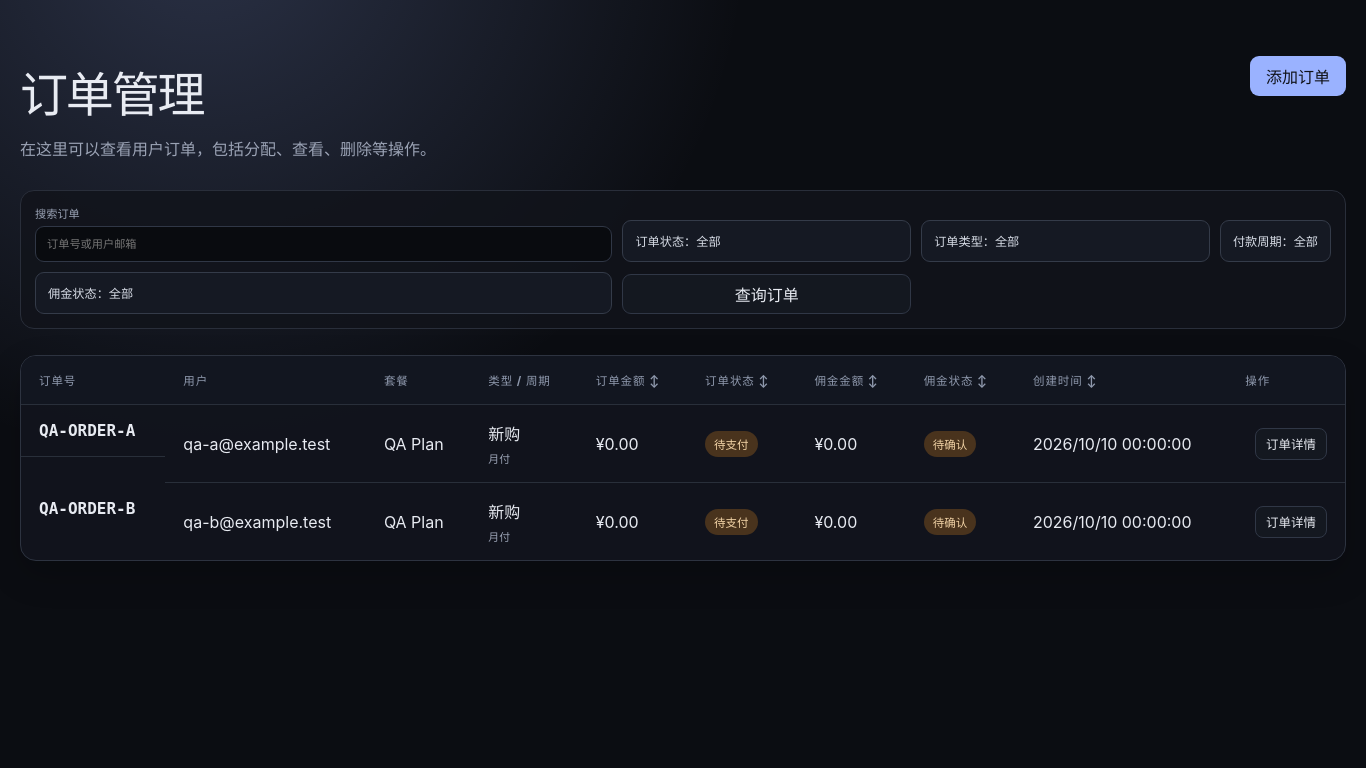
Scenario: administrator order detail request lifetime › keeps B selected when the older A request settles by resolve
Click the button "订单详情" in the row of "QA-ORDER-A" at point(1291, 444), box [1255,428,1327,460]
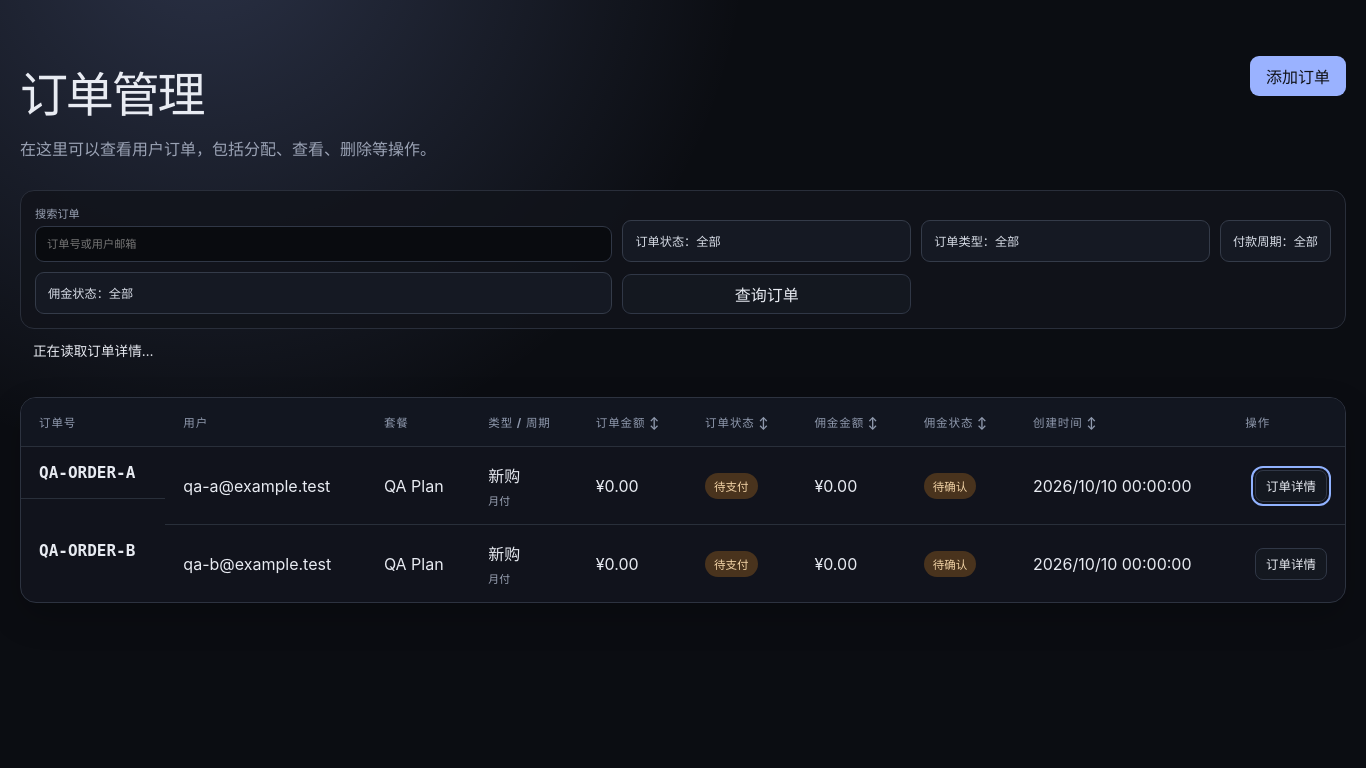
Click the button "订单详情" in the row of "QA-ORDER-B" at point(1291, 564), box [1255,548,1327,580]
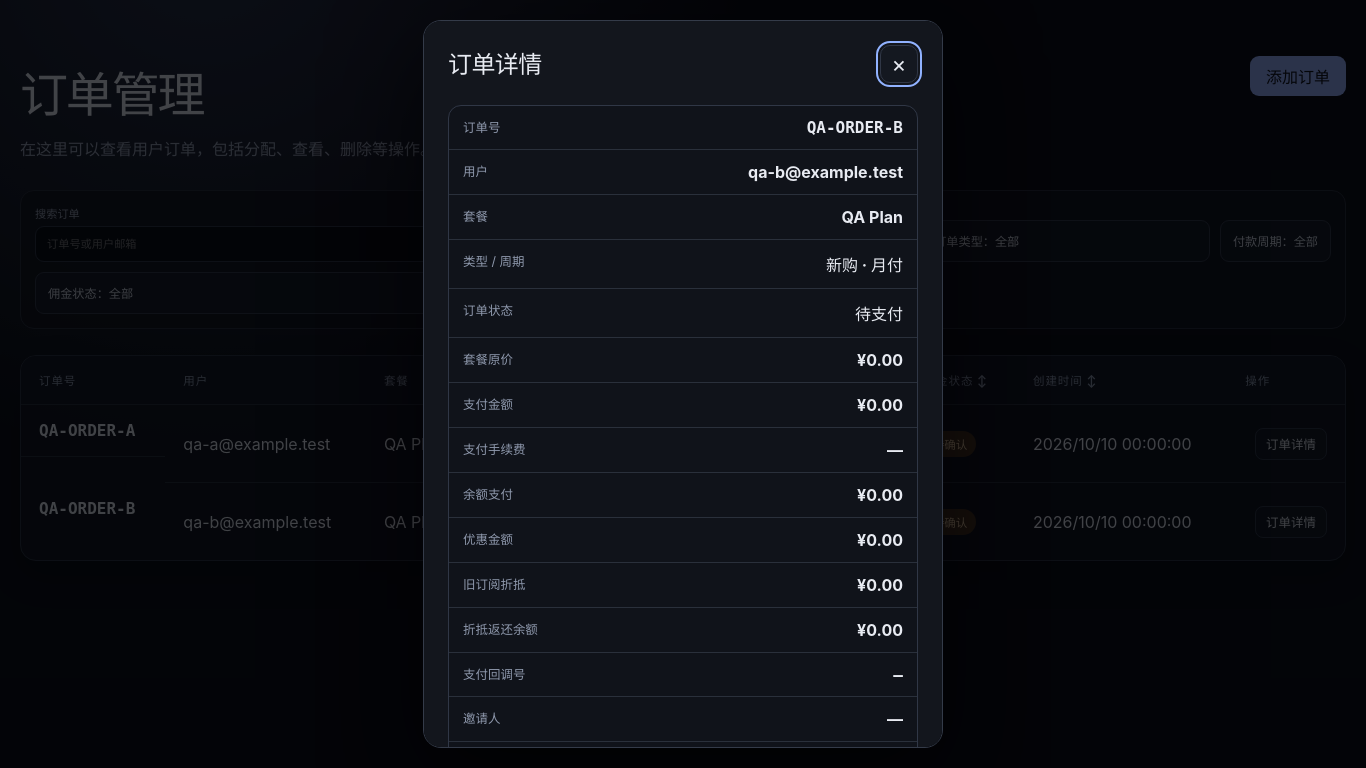
Now the text "QA-ORDER-B" is shown, box [807,118,903,137]
